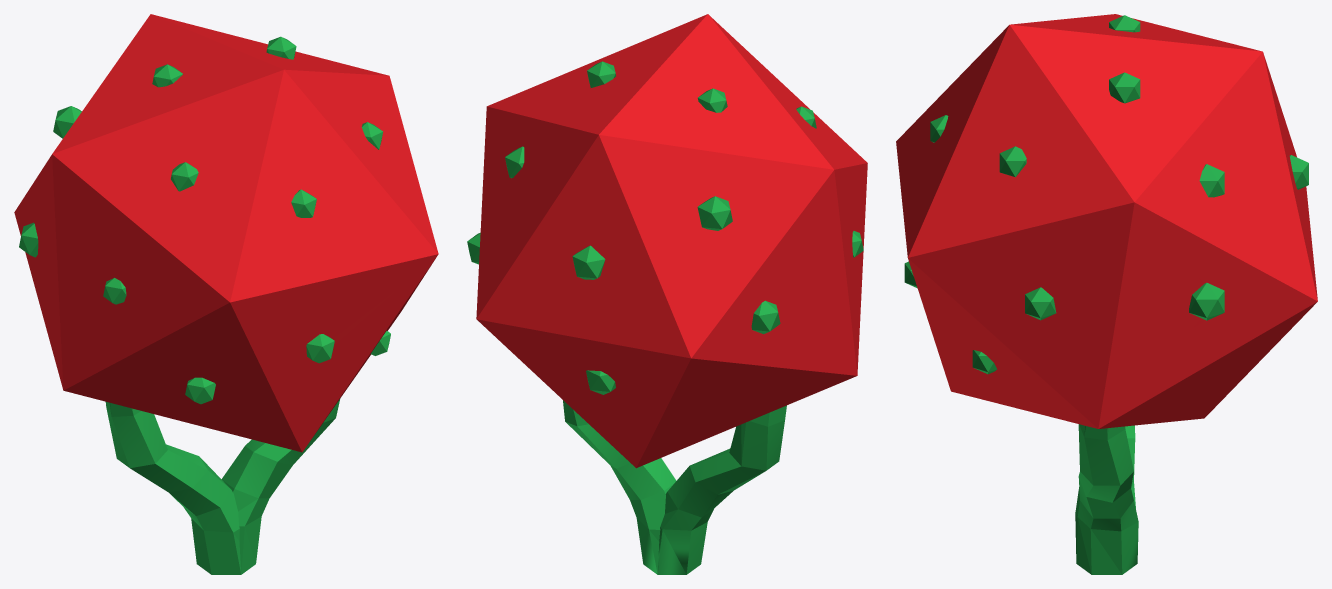
File: Bush2With.obj
The picture shows the model from 3 angles, left to right: view 1: azimuth 30°, elevation 25°; view 2: azimuth 150°, elevation 25°; view 3: azimuth 270°, elevation 25°; orthographic projection. The views are drawn at different scales.
Visible parts, largest first — view 1: Cylinder.001; view 2: Cylinder.001; view 3: Cylinder.001.
Boxes of the visible parts, x1=… form: Cylinder.001: x1=14, y1=14, x2=438, y2=574; Cylinder.001: x1=467, y1=14, x2=867, y2=574; Cylinder.001: x1=896, y1=14, x2=1317, y2=574.
Bounding box in the file's own units: 0.66 × 0.9408 × 0.6608.
